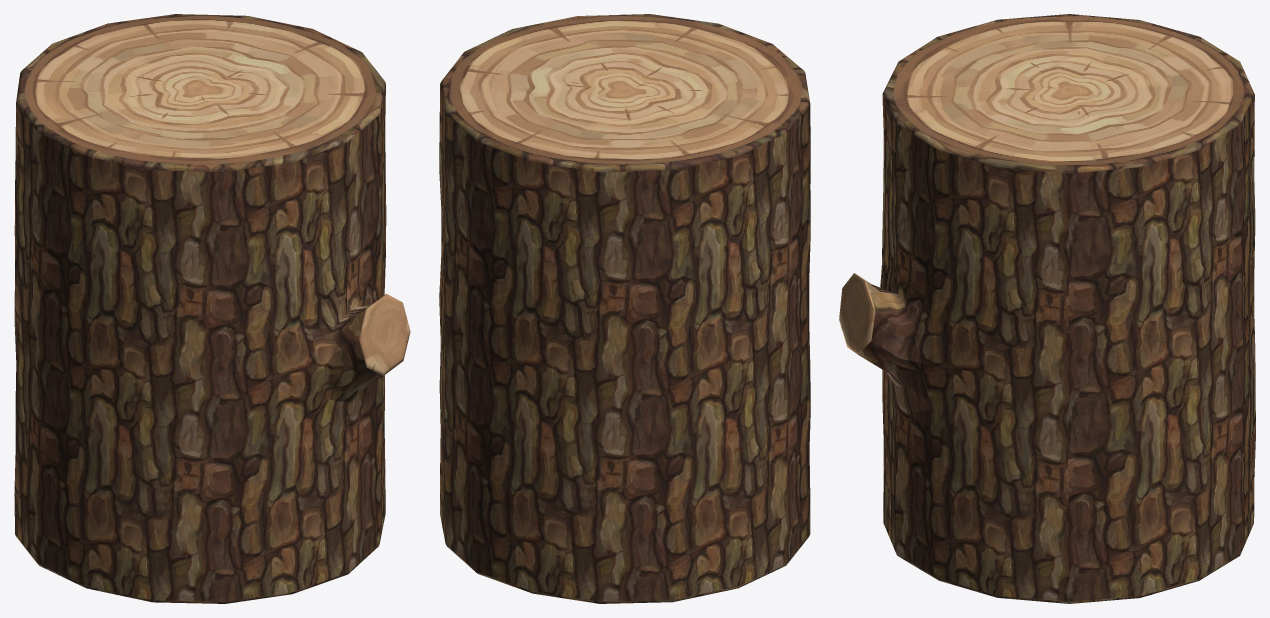
The model's file is log_2.fbx.
The picture shows the model from 3 angles, left to right: view 1: azimuth 30°, elevation 25°; view 2: azimuth 150°, elevation 25°; view 3: azimuth 270°, elevation 25°; orthographic projection.
Parts seen in each view (by area): view 1: generated_log_06; view 2: generated_log_06; view 3: generated_log_06.
Part boxes in pixels (<box>): generated_log_06: <box>14,14,410,603</box>; generated_log_06: <box>439,14,810,603</box>; generated_log_06: <box>839,14,1255,603</box>.
Bounding box in the file's own units: 78.44 × 101 × 87.42.
2 materials, 2 textured.
